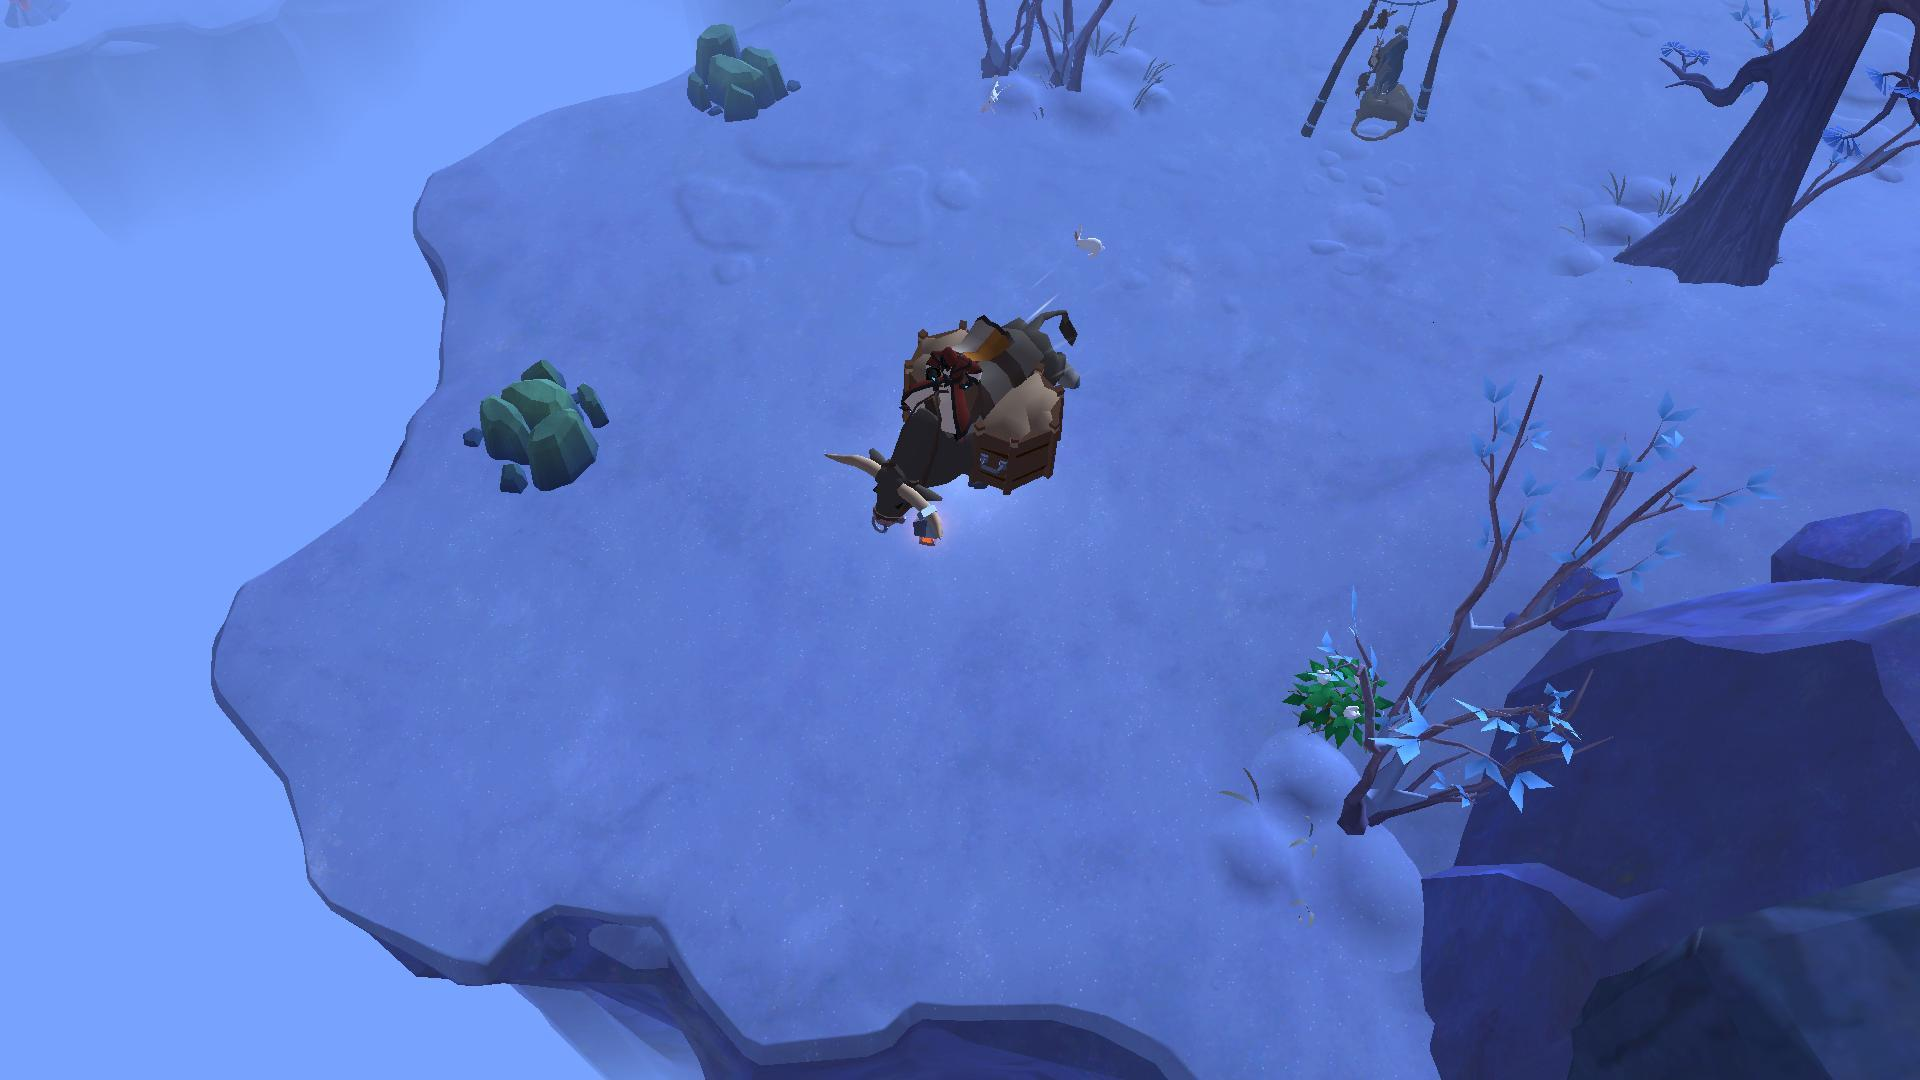fiber_t3: (1282, 649, 1385, 745)
rock_t3: (458, 355, 612, 493), (683, 15, 798, 127)
